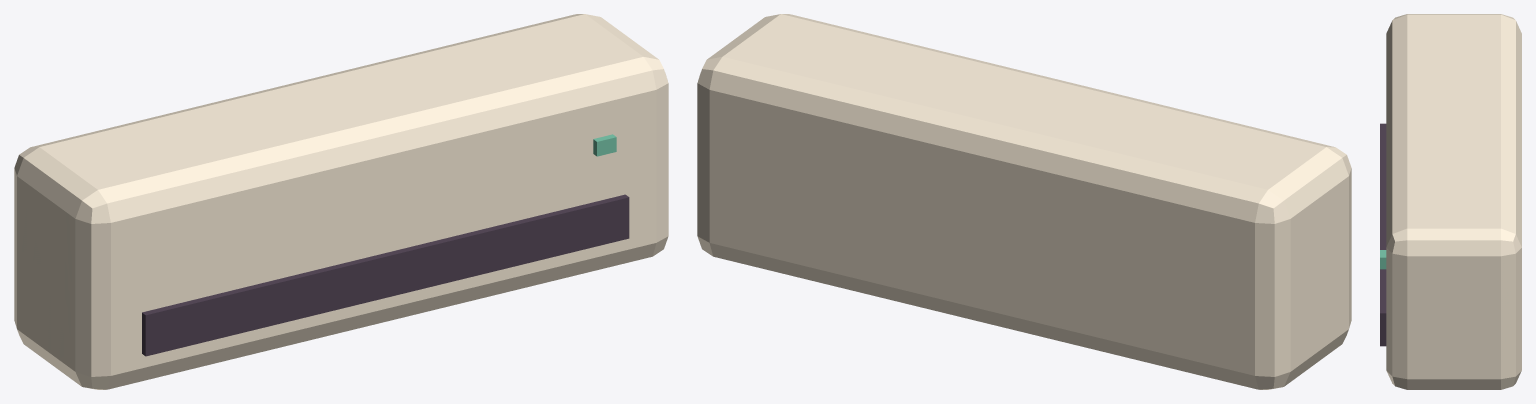
The model's file is prop_kipas_lv3.fbx.
3 views of the same model, side by side, from view 1: azimuth 30°, elevation 25°; view 2: azimuth 150°, elevation 25°; view 3: azimuth 270°, elevation 25° (orthographic). The views are drawn at different scales.
Parts seen in each view (by area): view 1: prop_kipas_lv3; view 2: prop_kipas_lv3; view 3: prop_kipas_lv3.
Part boxes in pixels (x1,y1,x2,y2): prop_kipas_lv3: (14, 14, 668, 389); prop_kipas_lv3: (697, 14, 1351, 389); prop_kipas_lv3: (1380, 14, 1521, 389).
Bounding box in the file's own units: 105 × 34 × 27.2.
Materials: 1 (1 with a texture image).
